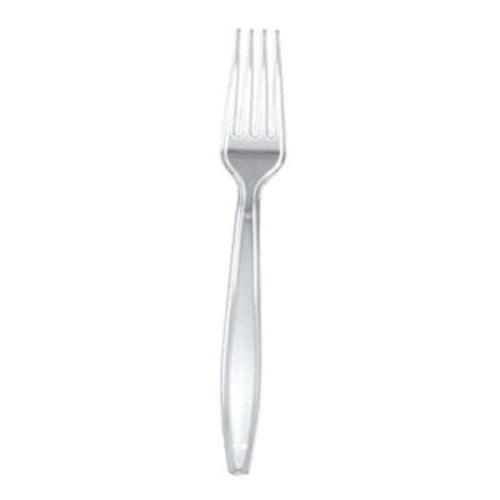Fork: (220, 27, 288, 477)
